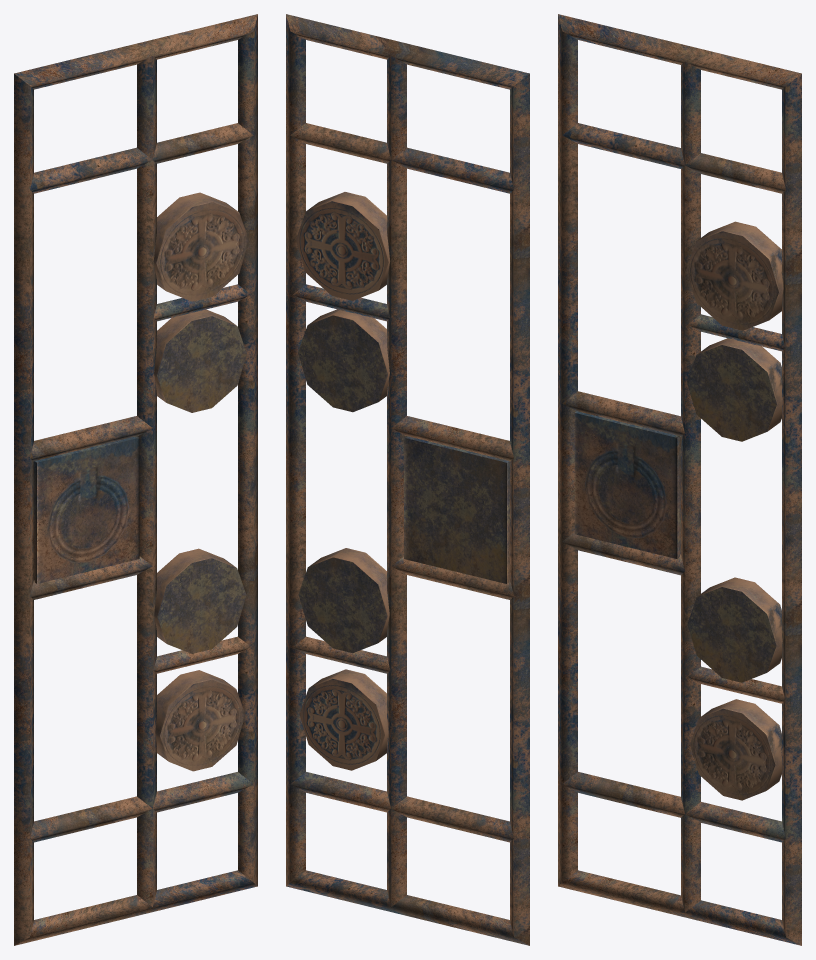
Rendered from GateA.fbx.
The picture shows the model from 3 angles, left to right: view 1: azimuth 30°, elevation 25°; view 2: azimuth 150°, elevation 25°; view 3: azimuth 330°, elevation 25°; orthographic projection.
Visible parts, largest first — view 1: GateA; view 2: GateA; view 3: GateA.
Part boxes in pixels (left/top/right/bottom): GateA: left=14, top=14, right=257, bottom=945; GateA: left=286, top=14, right=529, bottom=945; GateA: left=558, top=14, right=801, bottom=945.
Bounding box in the file's own units: 59.98 × 205 × 5.54.
Materials: 1 (1 with a texture image).
